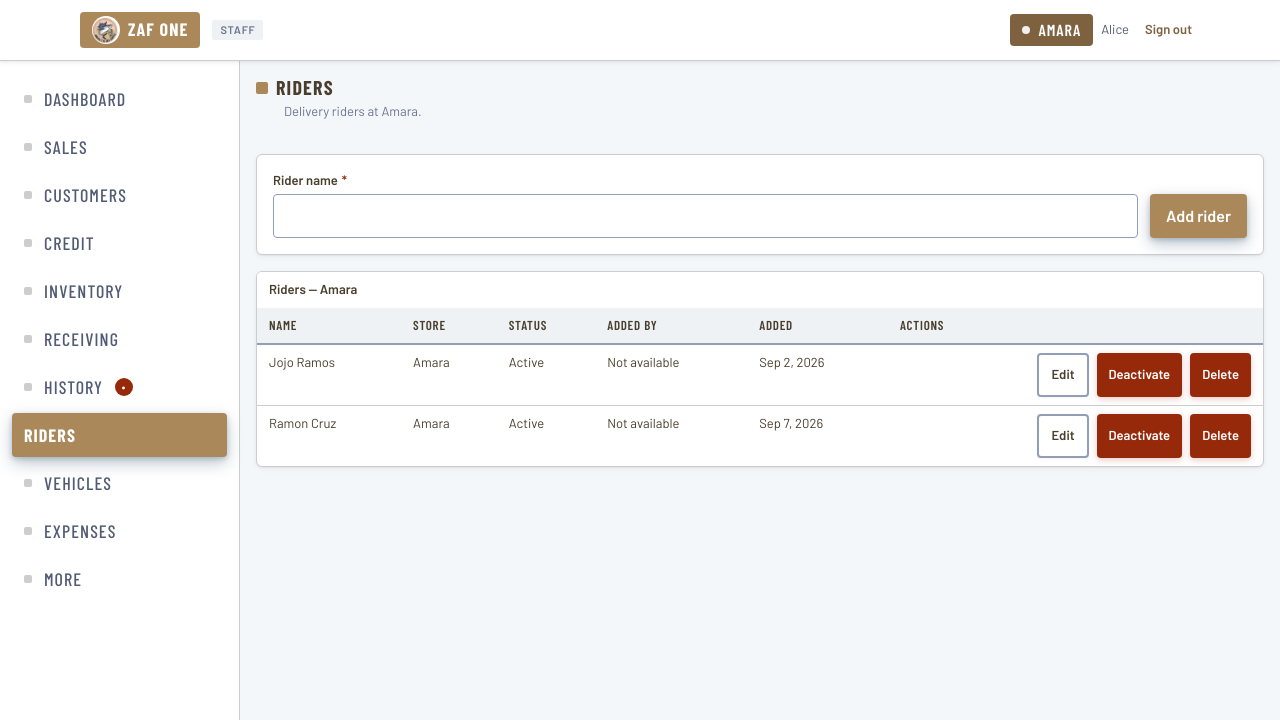
Test: RidersPage › renames a rider from its row
Click the button "Edit" in the row of "Jojo Ramos": (1063, 375) [1037,353,1088,397]
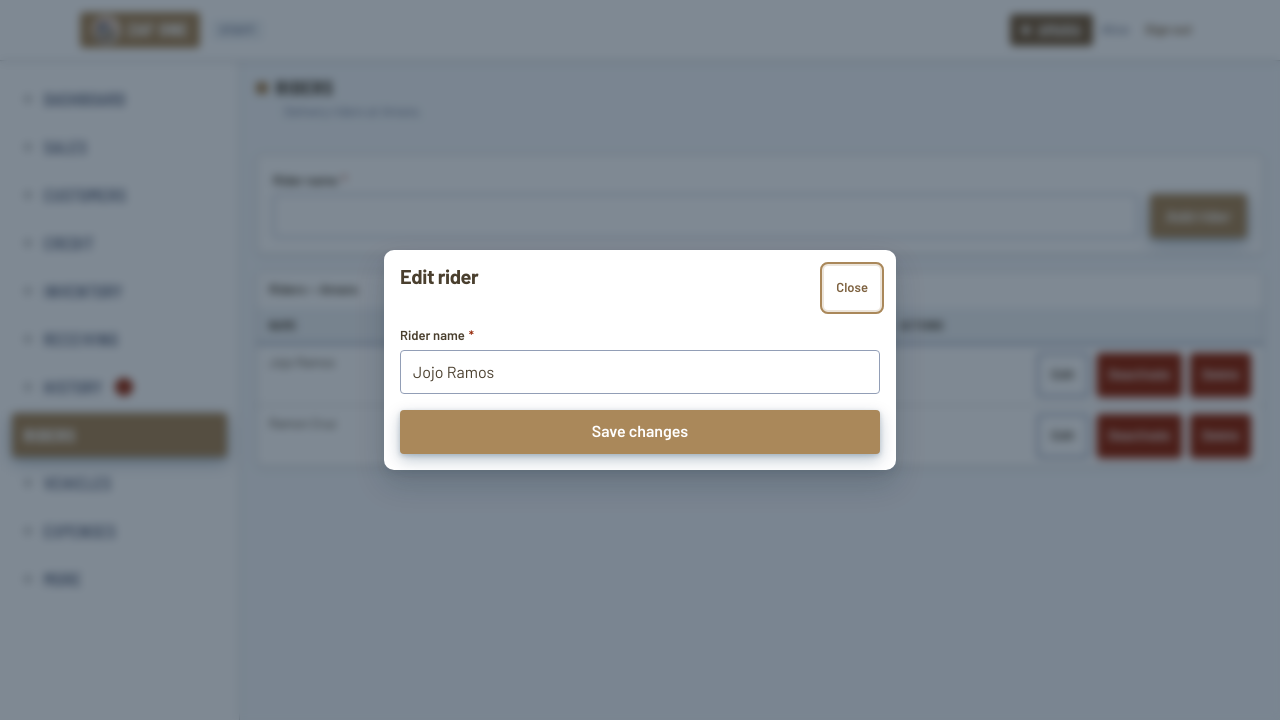
Replace the text in the field labelled "Rider name*" with "Jojo Dela Cruz": (640, 372) [400,350,880,394]
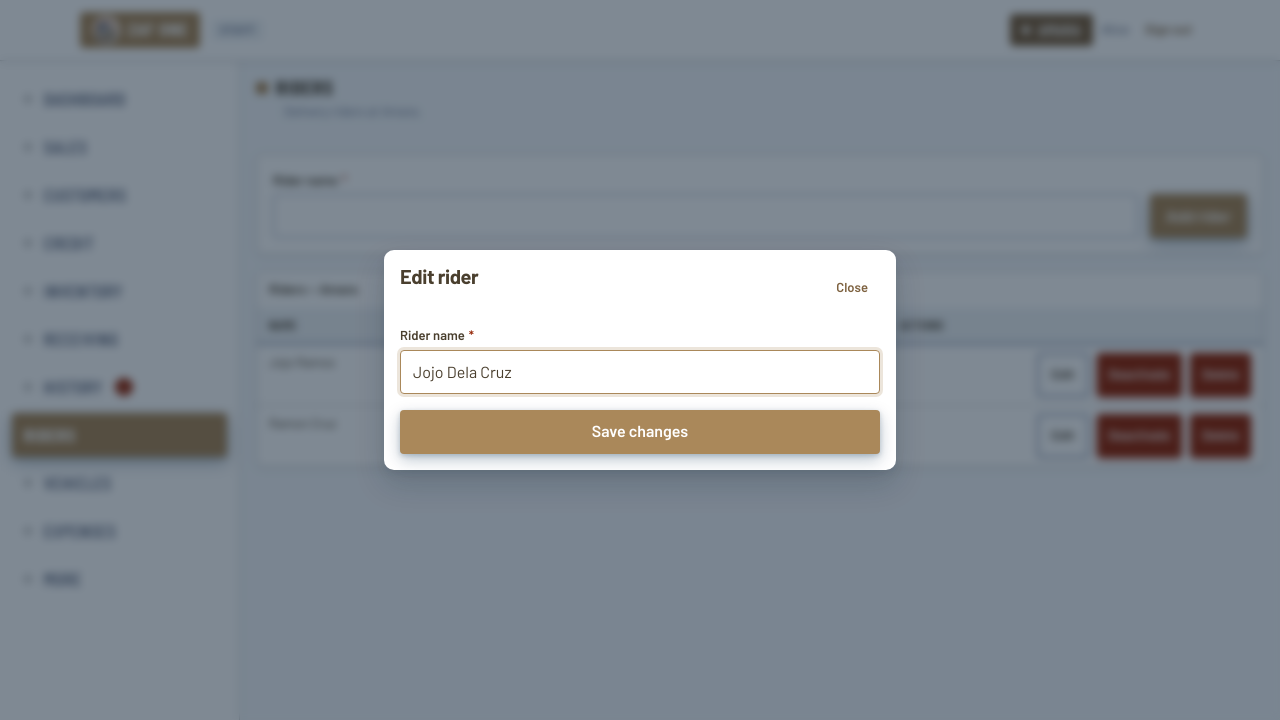
Click the button "Save changes": (640, 432) [400,410,880,454]
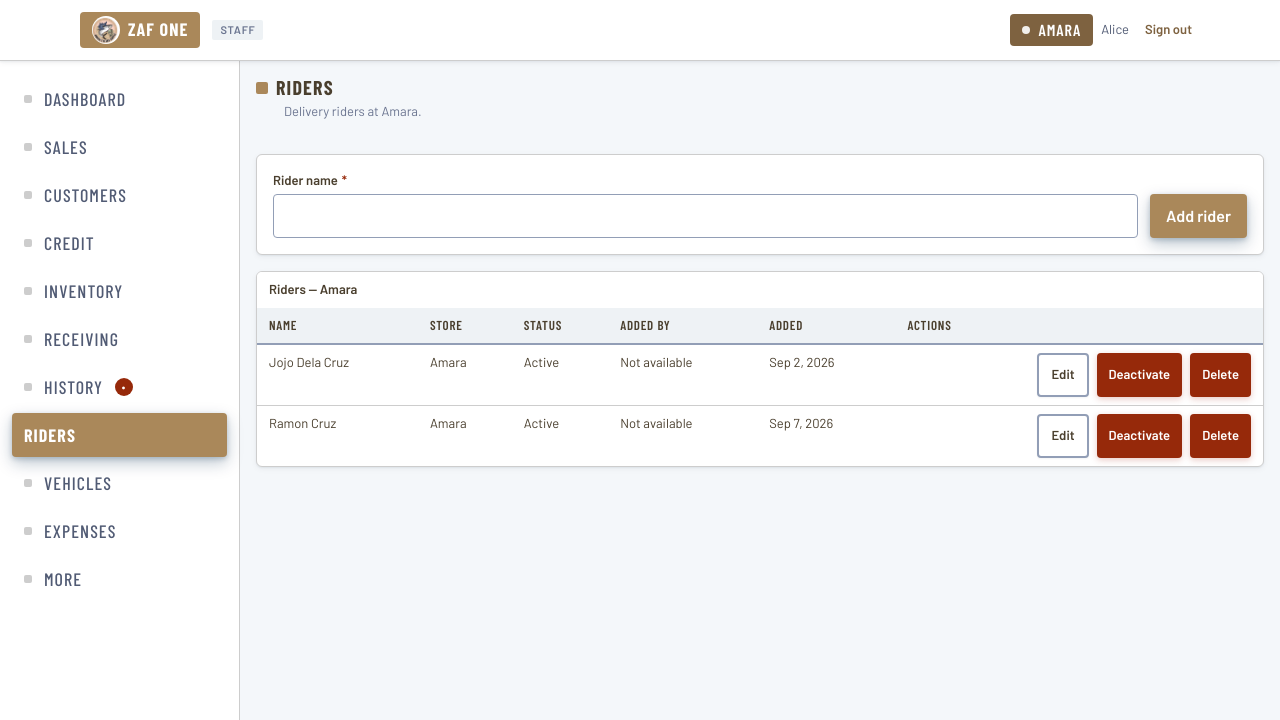
Check: the text "Jojo Dela Cruz" is shown, box [257,344,418,406]
